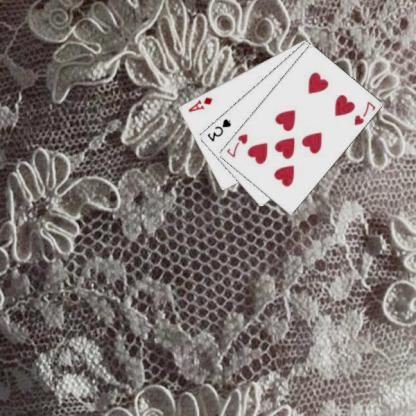3S: (206, 116, 234, 143)
7H: (352, 98, 379, 126), (225, 131, 251, 159)
AD: (187, 94, 216, 114)
